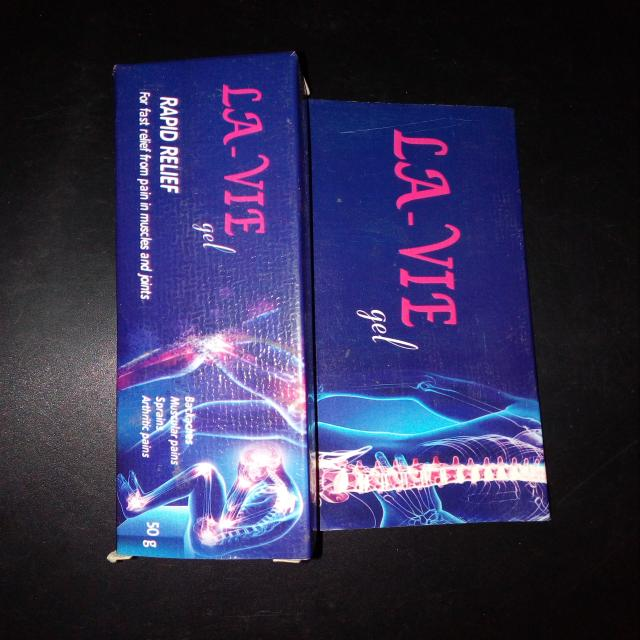Medicine: (110, 51, 558, 561)
